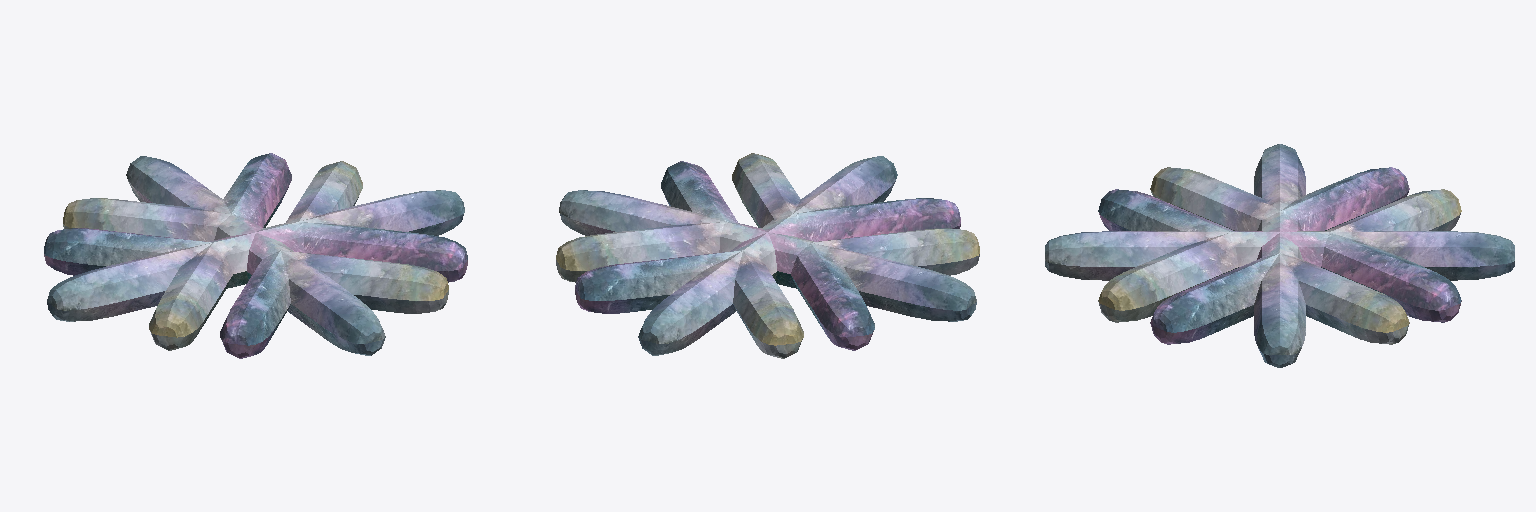
3 views of the same model, side by side, from view 1: azimuth 30°, elevation 25°; view 2: azimuth 150°, elevation 25°; view 3: azimuth 270°, elevation 25° (orthographic).
Visible parts, largest first — view 1: Cylinder.001_Cylinder.003; view 2: Cylinder.001_Cylinder.003; view 3: Cylinder.001_Cylinder.003.
Part boxes in pixels (bbox=[...]): Cylinder.001_Cylinder.003: bbox=[44, 153, 467, 358]; Cylinder.001_Cylinder.003: bbox=[556, 153, 979, 358]; Cylinder.001_Cylinder.003: bbox=[1045, 144, 1514, 367].
Bounding box in the file's own units: 1.8 × 0.2 × 1.8.
Materials: 1 (1 with a texture image).